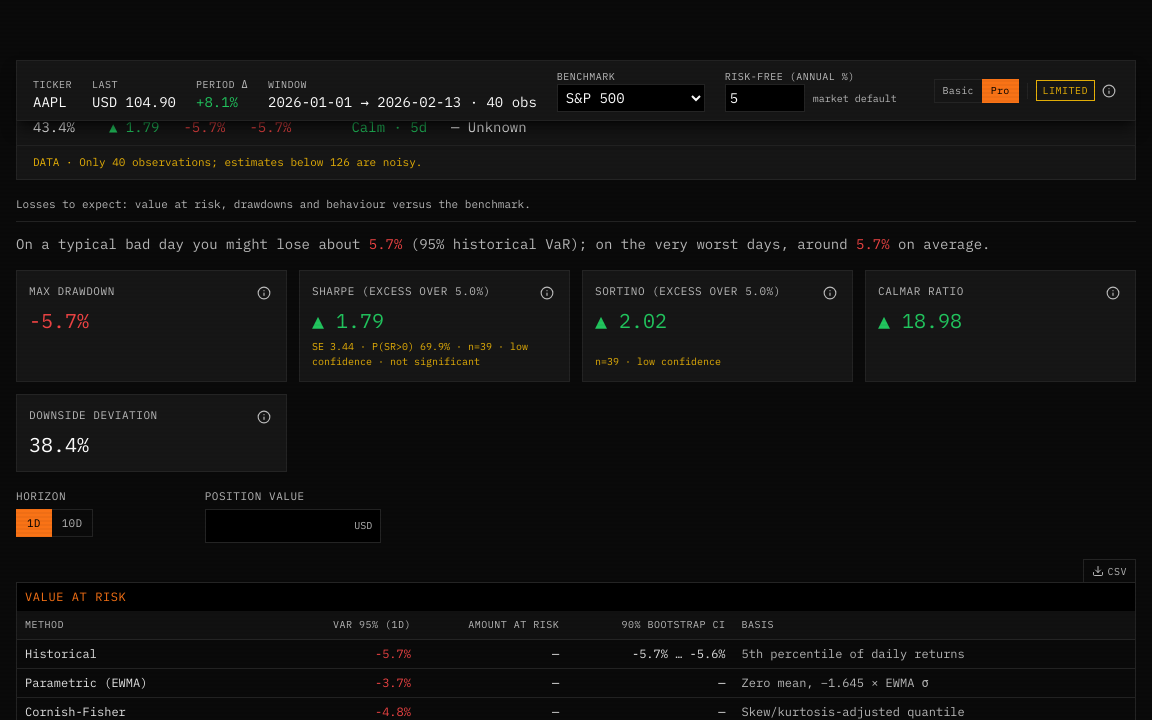
it: QuantPanel › clearing the manual risk-free rate returns to the market default
Type "2" into the number field named "Risk-free rate, annual percent" at (765, 98), box [725, 84, 805, 112]
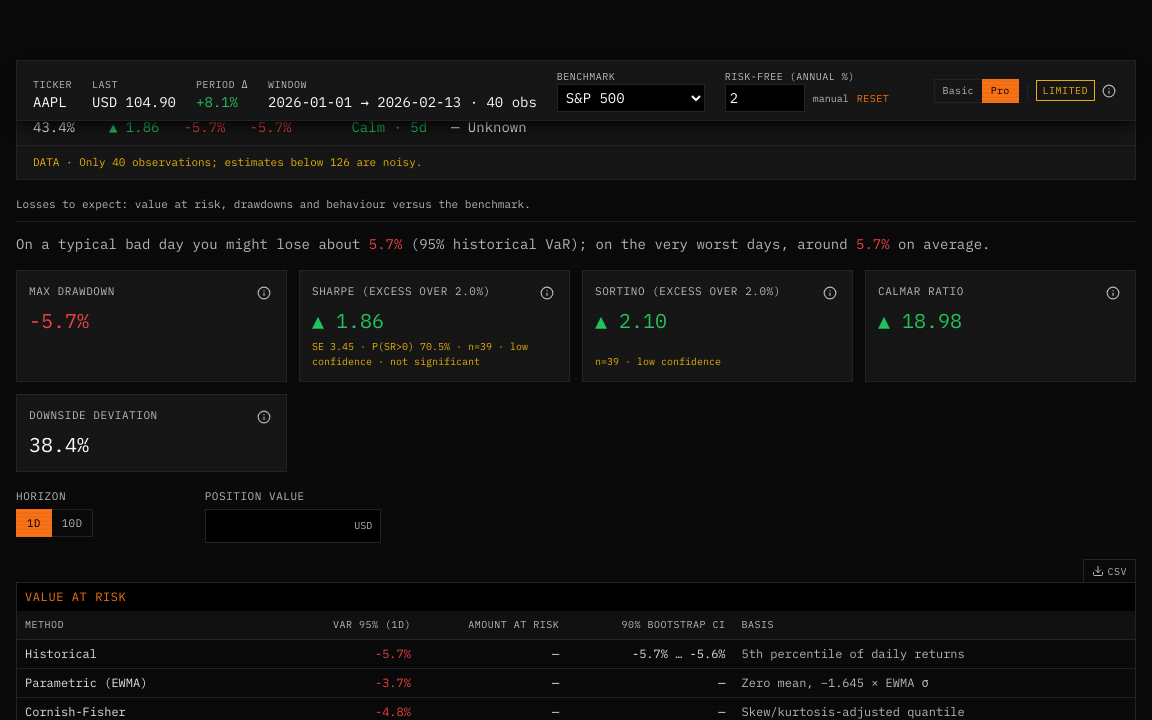
Expected: the text "manual" is shown, [813, 90, 849, 106]
Expected: the text "Sharpe (excess over 2.0%)" is shown, [312, 283, 491, 300]
Click the button with aria-label "reset risk-free" at (873, 98), box [857, 90, 889, 106]
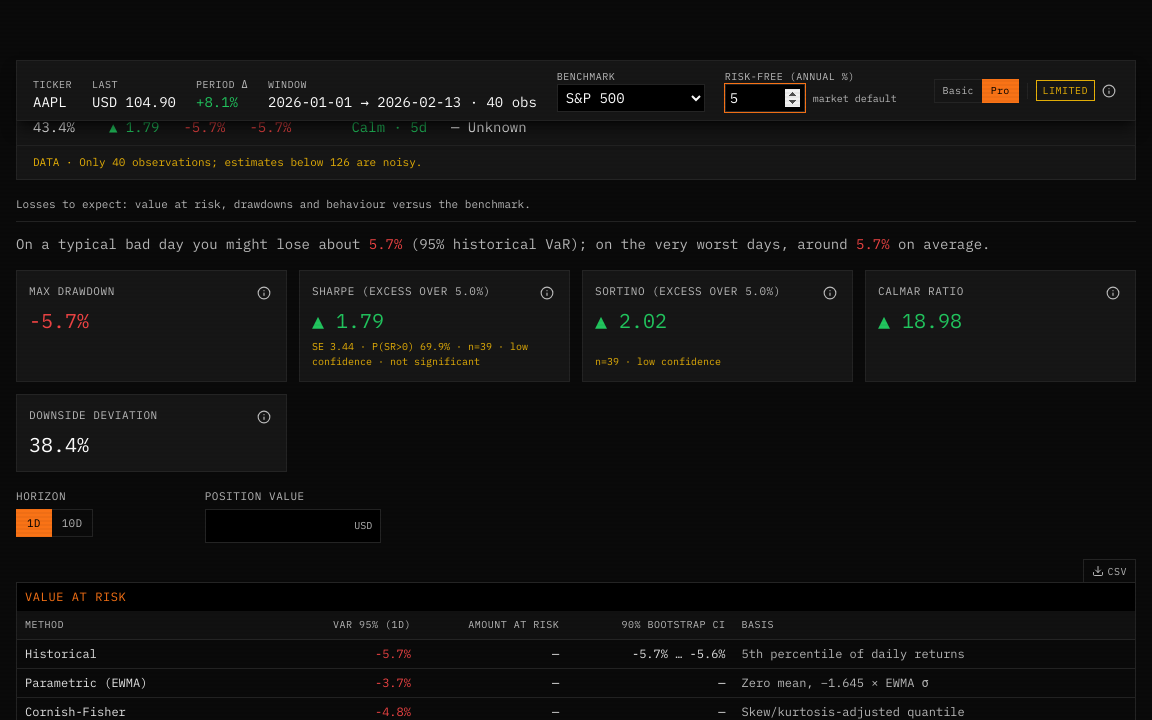
Expected: the text "market default" is shown, [813, 90, 897, 106]
Expected: the number field named "Risk-free rate, annual percent" holds "5"
Type "2" into the number field named "Risk-free rate, annual percent" at (765, 98), box [725, 84, 805, 112]
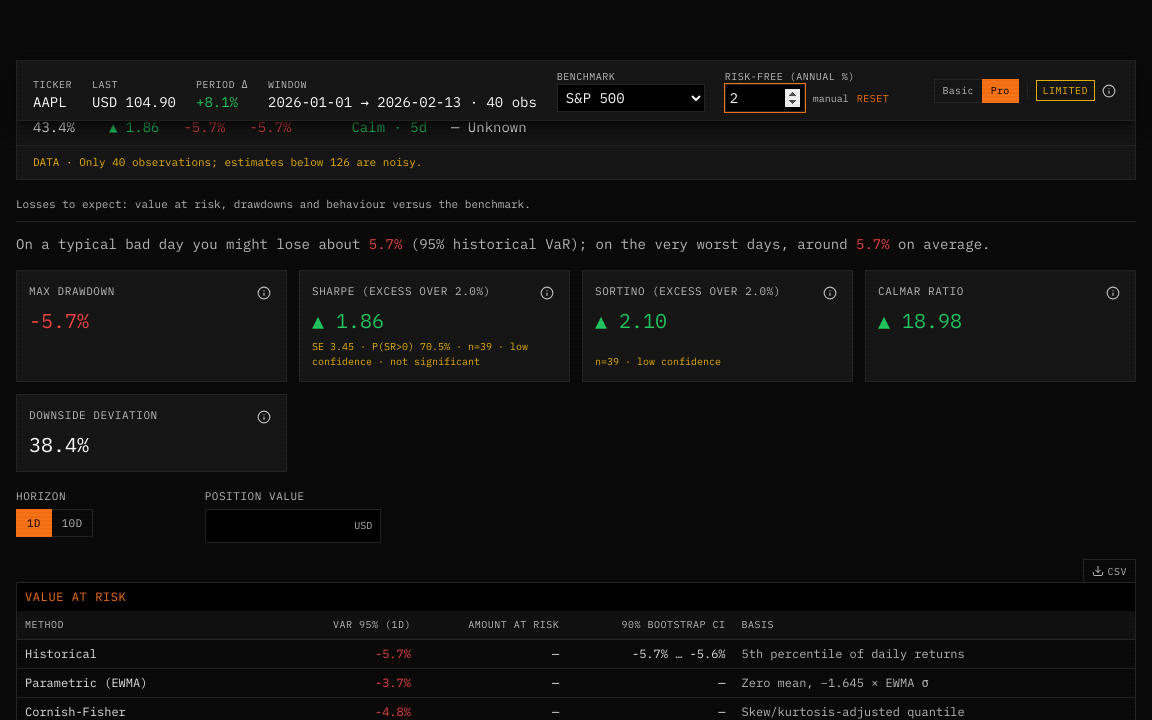
Clear the number field named "Risk-free rate, annual percent" at (765, 98), box [725, 84, 805, 112]
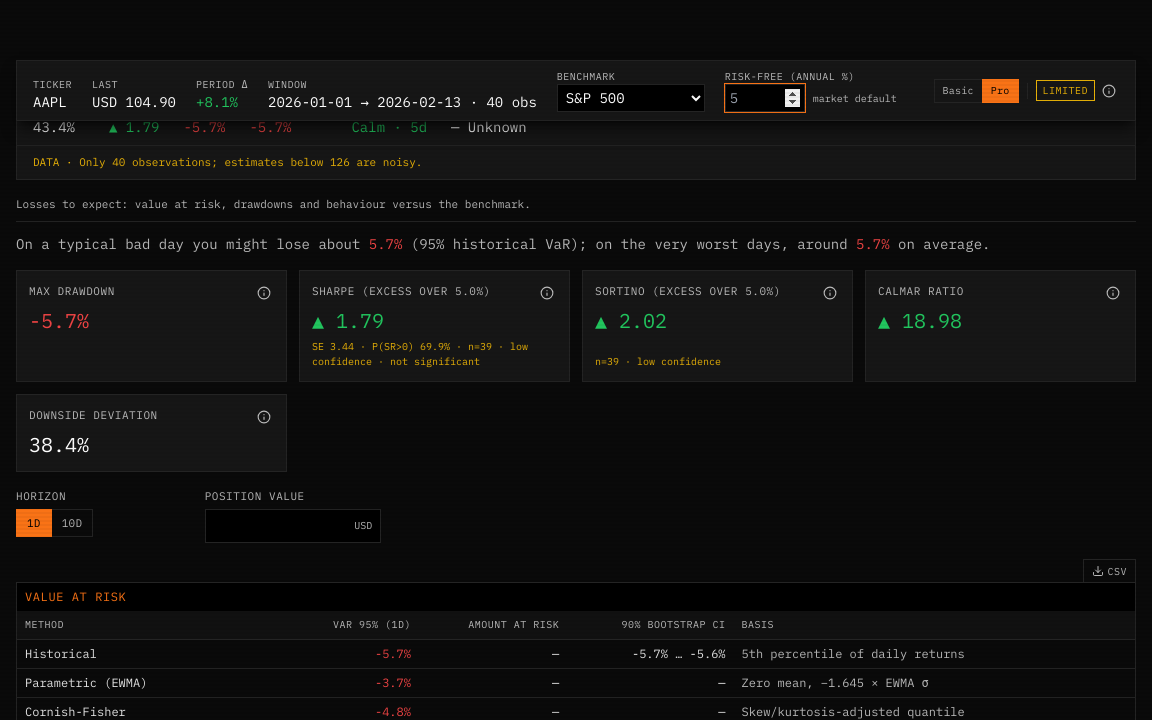
Expected: the text "market default" is shown, [813, 90, 897, 106]
